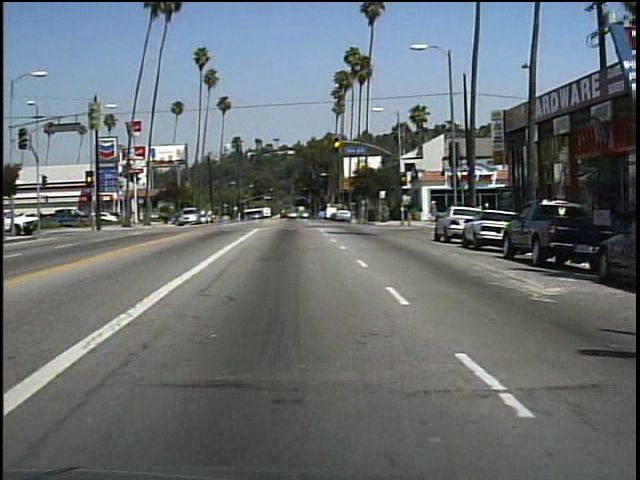person: (421, 196, 443, 224)
